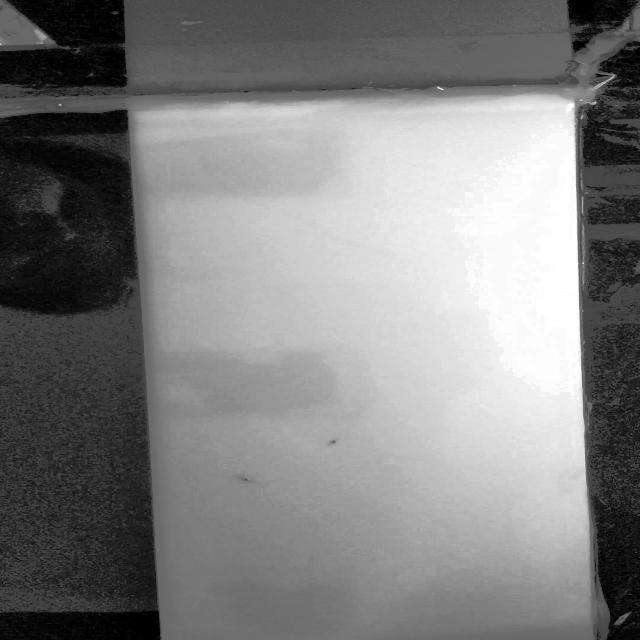shrimp: (318, 437, 349, 448), (236, 474, 261, 486)
